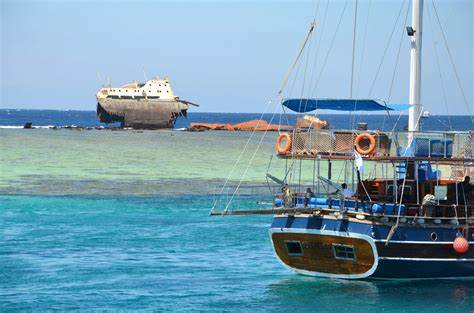rust: (272, 236, 372, 277)
